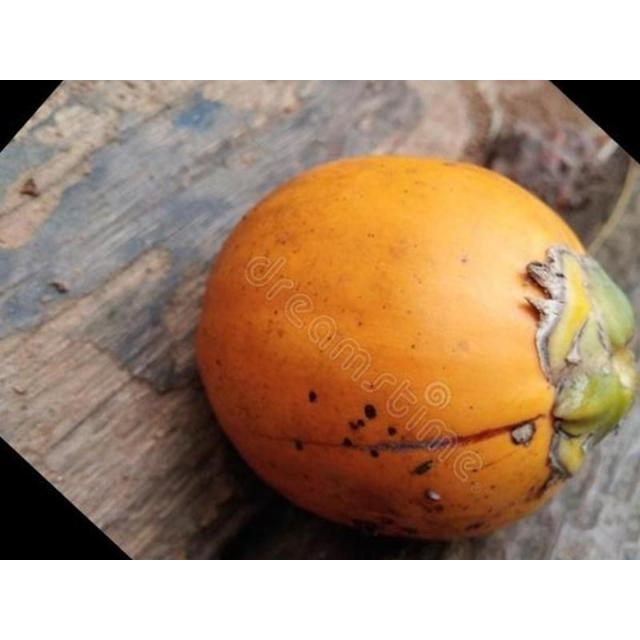good: (194, 156, 639, 544)
